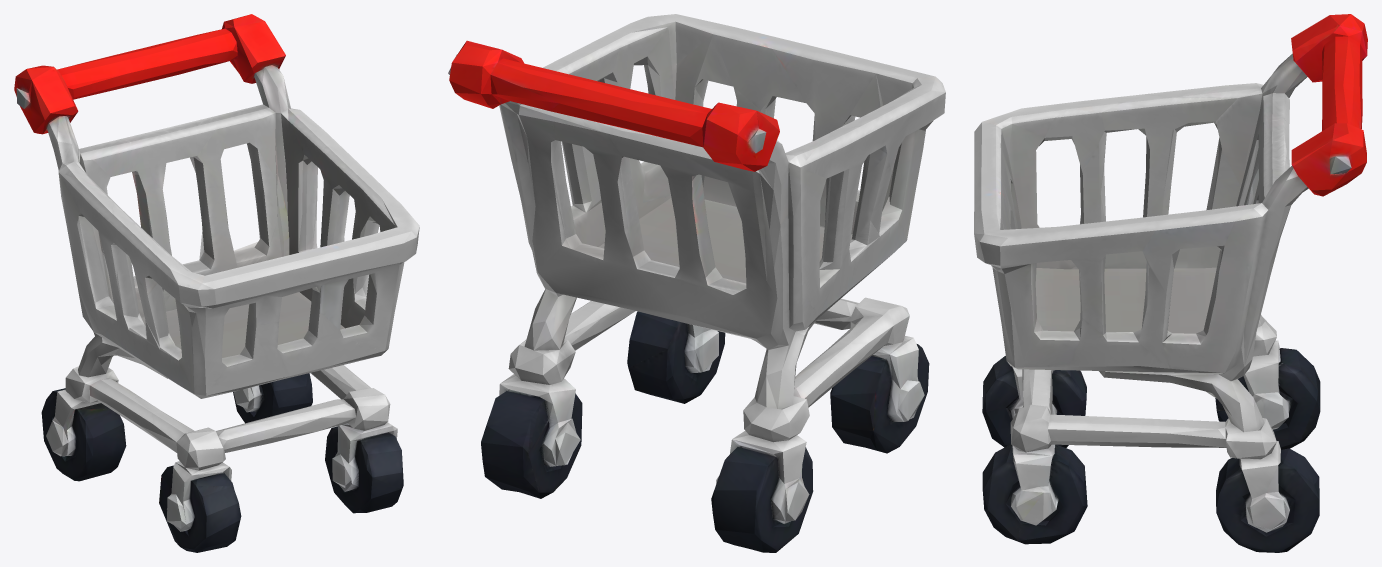
Rendered from cart.glb.
3 renders of one model, left to right at view 1: azimuth 30°, elevation 25°; view 2: azimuth 150°, elevation 25°; view 3: azimuth 270°, elevation 25°, orthographic. The views are drawn at different scales.
Parts seen in each view (by area): view 1: model; view 2: model; view 3: model.
Part boxes in pixels (x1=…): model: x1=14, y1=14, x2=419, y2=552; model: x1=448, y1=14, x2=945, y2=552; model: x1=974, y1=14, x2=1367, y2=552.
Size of the model in its own units: 1.29 by 1.9 by 1.61.
Materials: 1 (1 with a texture image).
